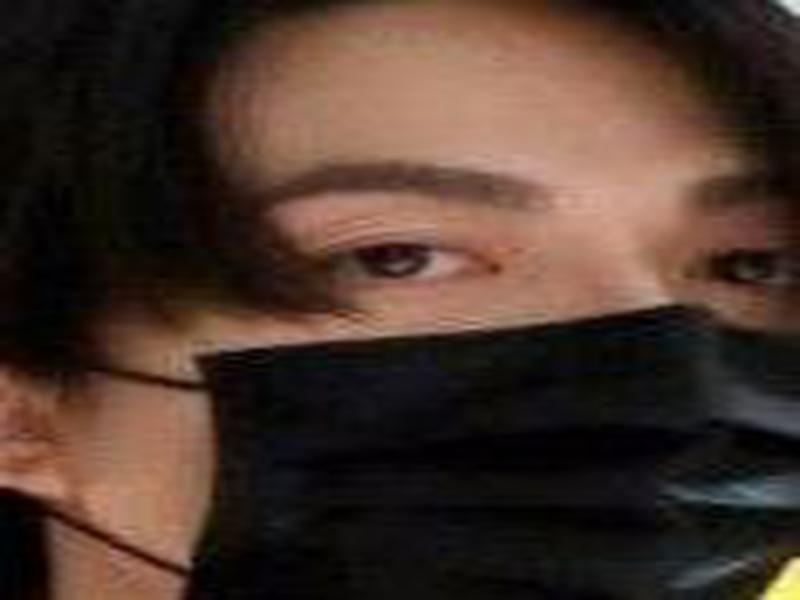with_mask: (1, 1, 792, 600)
